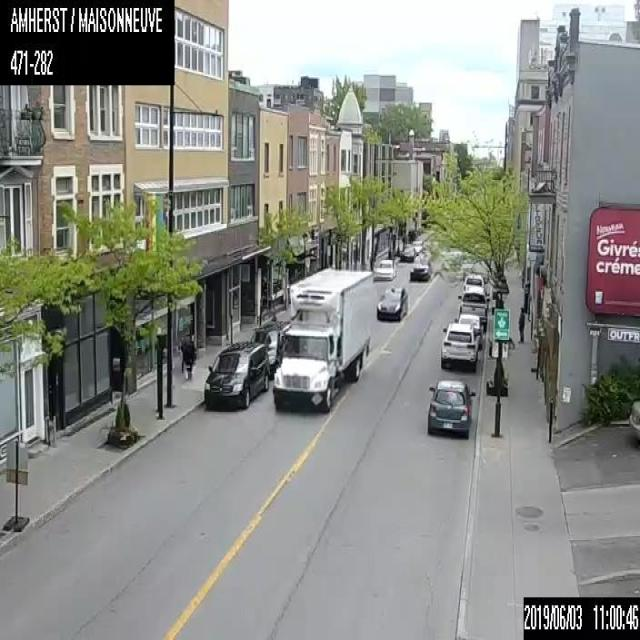pedestrian: (186, 332, 195, 377), (516, 306, 526, 342), (180, 334, 188, 372)
vehicle: (271, 266, 373, 410), (203, 341, 269, 408), (426, 375, 476, 437), (250, 319, 291, 377), (440, 321, 481, 372), (376, 284, 409, 321), (458, 292, 490, 329), (454, 312, 485, 348), (410, 258, 431, 280), (375, 259, 396, 279), (463, 274, 485, 293), (400, 246, 415, 261), (412, 239, 422, 252)
